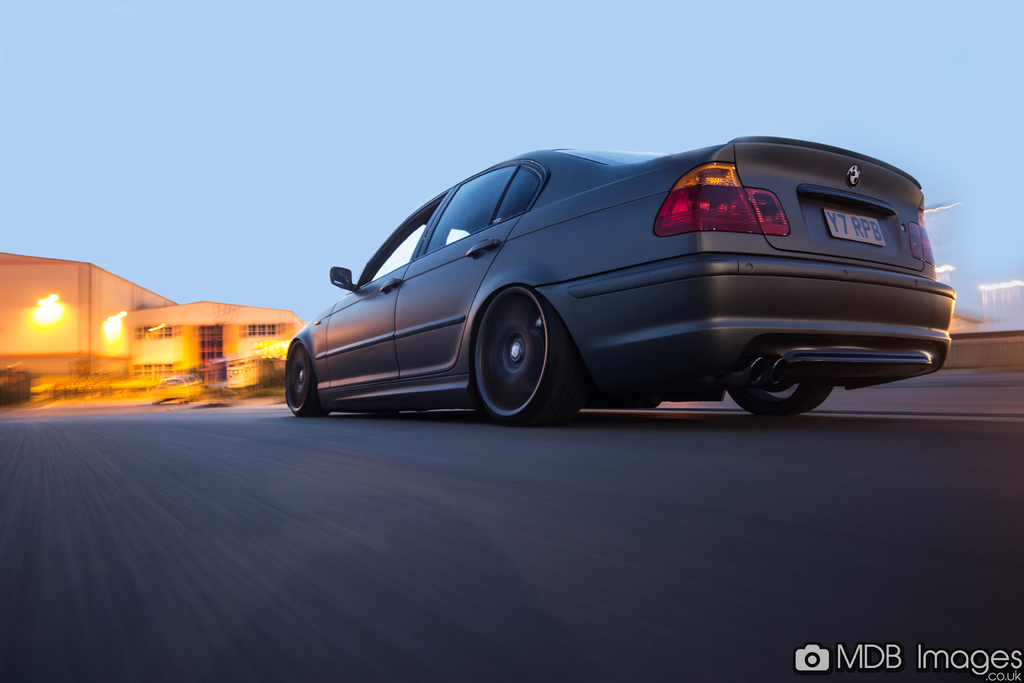mobil: (283, 137, 971, 419)
